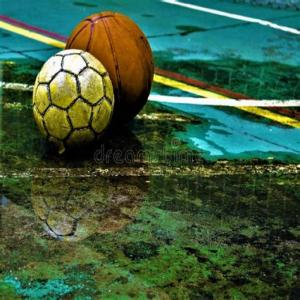Basket: (64, 11, 156, 125)
Football: (32, 49, 116, 146)
